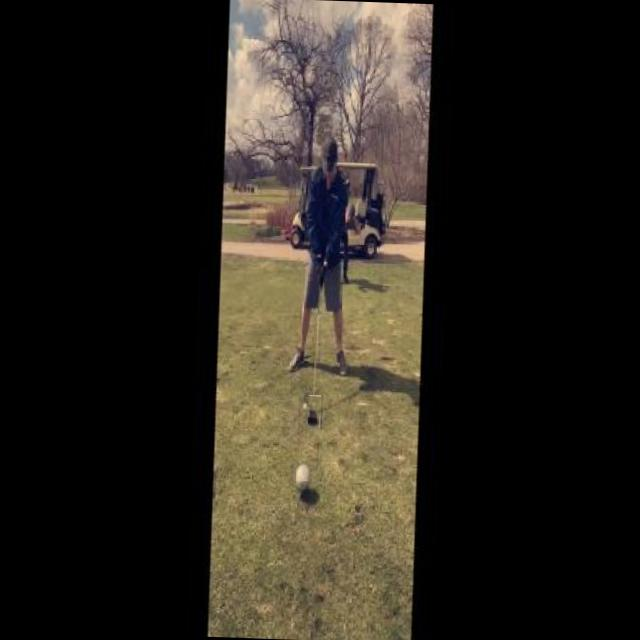club head: (308, 395, 323, 428)
